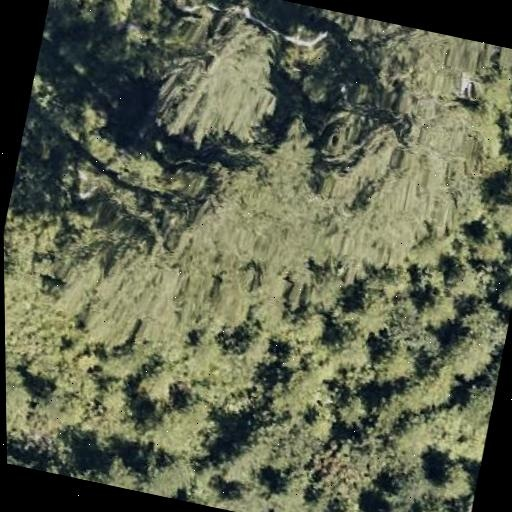tree-top: (124, 0, 302, 156), (137, 387, 226, 464), (431, 309, 509, 395), (460, 226, 511, 278), (476, 168, 512, 239), (411, 285, 460, 333), (429, 454, 480, 498), (364, 336, 409, 384), (440, 254, 487, 299), (125, 0, 230, 13), (5, 349, 25, 406), (501, 62, 512, 155), (364, 492, 413, 512), (489, 270, 512, 312), (402, 493, 451, 512)
